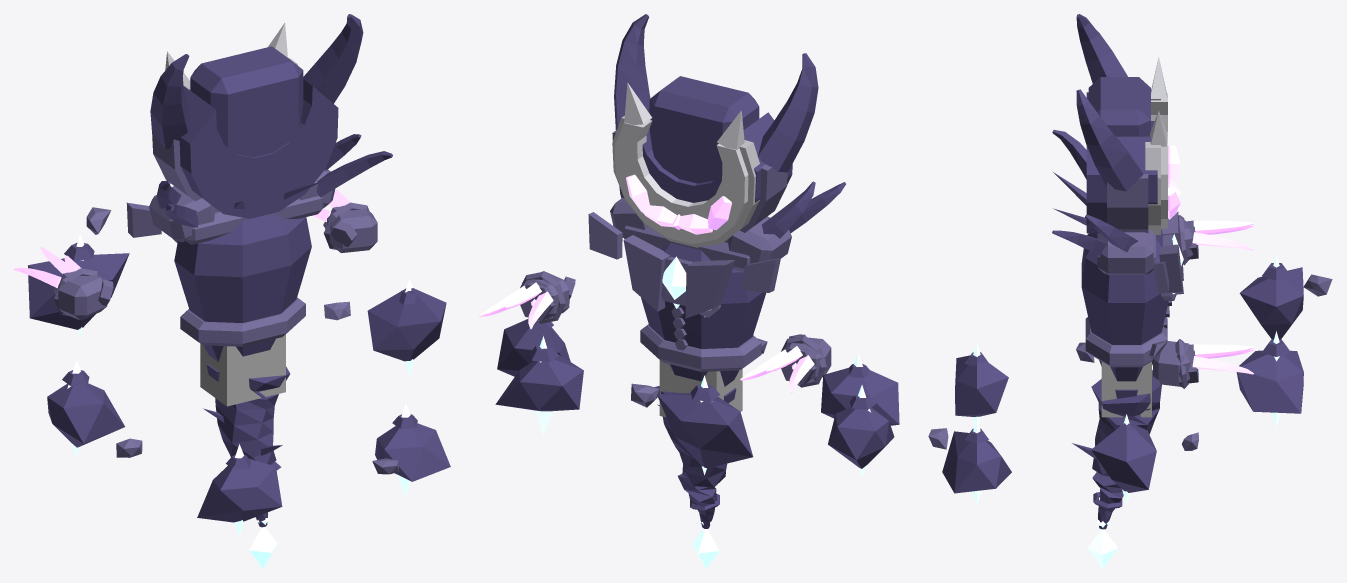
Rendered from Orbit.fbx.
3 renders of one model, left to right at view 1: azimuth 30°, elevation 25°; view 2: azimuth 150°, elevation 25°; view 3: azimuth 270°, elevation 25°, orthographic. The views are drawn at different scales.
Parts seen in each view (by area): view 1: Orbit_Head_Navy, Orbit_Torso_Navy, Orbit_Shoulders_NavyLight, Orbit_OrbitRock6_Navy, Orbit_OrbitRock4_Navy, Orbit_Swirl_Navy, Orbit_Root_Invisible, Orbit_OrbitRock3_Navy, Orbit_OrbitRock5_Navy, Orbit_OrbitRock2_Navy, Orbit_TorsoTrim_NavyLight, Orbit_Hand_L_NavyLight (+8 smaller); view 2: Orbit_Head_Navy, Orbit_TorsoTrim_NavyLight, Orbit_Crescent_MoonGrey, Orbit_Shoulders_NavyLight, Orbit_Torso_Navy, Orbit_OrbitRock2_Navy, Orbit_OrbitRock1_Navy, Orbit_OrbitRock3_Navy, Orbit_OrbitRock4_Navy, Orbit_OrbitRock6_Navy, Orbit_Crack_Glow, Orbit_Spikes_L_Navy (+13 smaller); view 3: Orbit_Head_Navy, Orbit_Torso_Navy, Orbit_OrbitRock1_Navy, Orbit_TorsoTrim_NavyLight, Orbit_OrbitRock2_Navy, Orbit_OrbitRock5_Navy, Orbit_OrbitRock6_Navy, Orbit_OrbitRock4_Navy, Orbit_Swirl_Navy, Orbit_Shoulders_NavyLight, Orbit_HoodTrim_NavyLight, Orbit_Hand_R_NavyLight (+13 smaller).
Part boxes in pixels (<box>): Orbit_Head_Navy: <box>150,14,363,218</box>; Orbit_Torso_Navy: <box>174,213,311,381</box>; Orbit_Shoulders_NavyLight: <box>126,169,335,244</box>; Orbit_OrbitRock6_Navy: <box>367,288,446,361</box>; Orbit_OrbitRock4_Navy: <box>197,455,282,522</box>; Orbit_Swirl_Navy: <box>203,366,290,464</box>; Orbit_Root_Invisible: <box>200,334,285,406</box>; Orbit_OrbitRock3_Navy: <box>47,370,124,447</box>; Orbit_OrbitRock5_Navy: <box>375,414,450,481</box>; Orbit_OrbitRock2_Navy: <box>28,242,129,329</box>; Orbit_TorsoTrim_NavyLight: <box>173,239,305,346</box>; Orbit_Hand_L_NavyLight: <box>53,268,113,320</box>; Orbit_Head_Navy: <box>613,14,818,202</box>; Orbit_TorsoTrim_NavyLight: <box>623,235,761,371</box>; Orbit_Crescent_MoonGrey: <box>614,82,748,243</box>; Orbit_Shoulders_NavyLight: <box>588,197,791,292</box>; Orbit_Torso_Navy: <box>641,243,766,403</box>; Orbit_OrbitRock2_Navy: <box>658,384,753,468</box>; Orbit_OrbitRock1_Navy: <box>495,344,583,411</box>; Orbit_OrbitRock3_Navy: <box>828,394,894,468</box>; Orbit_OrbitRock4_Navy: <box>821,364,899,425</box>; Orbit_OrbitRock6_Navy: <box>497,318,570,376</box>; Orbit_Crack_Glow: <box>626,174,731,234</box>; Orbit_Spikes_L_Navy: <box>761,181,845,238</box>; Orbit_Head_Navy: <box>1076,14,1157,233</box>; Orbit_Torso_Navy: <box>1081,229,1168,398</box>; Orbit_OrbitRock1_Navy: <box>1236,339,1303,413</box>; Orbit_TorsoTrim_NavyLight: <box>1085,211,1183,367</box>; Orbit_OrbitRock2_Navy: <box>1239,263,1303,339</box>; Orbit_OrbitRock5_Navy: <box>942,428,1011,493</box>; Orbit_OrbitRock6_Navy: <box>1091,422,1156,492</box>; Orbit_OrbitRock4_Navy: <box>955,352,1008,416</box>; Orbit_Swirl_Navy: <box>1072,370,1161,476</box>; Orbit_Shoulders_NavyLight: <box>1097,230,1169,293</box>; Orbit_HoodTrim_NavyLight: <box>1107,174,1148,233</box>; Orbit_Hand_R_NavyLight: <box>1149,339,1198,388</box>.
Size of what is drawn, in the model's own units: 9.36 by 12.38 by 8.83.
